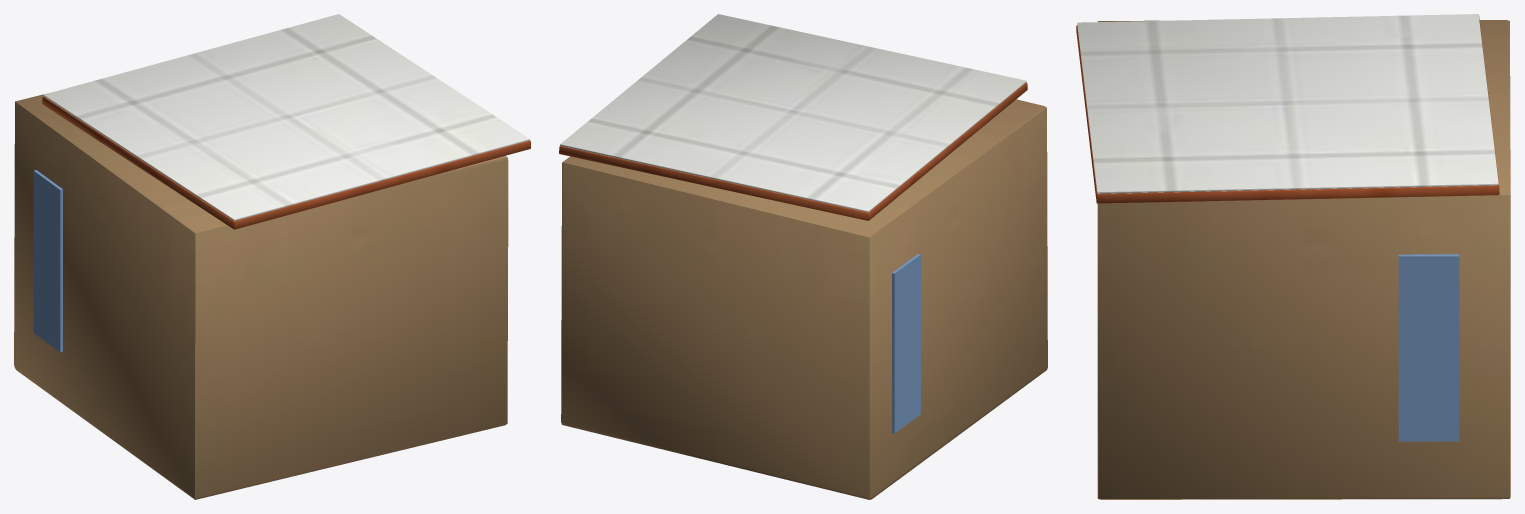
The model's file is REV-CER-001_lod1.glb.
The picture shows the model from 3 angles, left to right: view 1: azimuth 30°, elevation 25°; view 2: azimuth 150°, elevation 25°; view 3: azimuth 270°, elevation 25°; orthographic projection. The views are drawn at different scales.
Parts seen in each view (by area): view 1: REV-CER-001_caixa, REV-CER-001_face, REV-CER-001_faixa, REV-CER-001_corpo; view 2: REV-CER-001_caixa, REV-CER-001_face, REV-CER-001_faixa, REV-CER-001_corpo; view 3: REV-CER-001_caixa, REV-CER-001_face, REV-CER-001_faixa, REV-CER-001_corpo.
Part boxes in pixels (x1,y1,x2,y2): REV-CER-001_caixa: (14,93,508,499); REV-CER-001_face: (43,14,530,220); REV-CER-001_faixa: (33,170,62,352); REV-CER-001_corpo: (42,96,530,229); REV-CER-001_caixa: (561,99,1047,499); REV-CER-001_face: (560,14,1026,212); REV-CER-001_faixa: (892,254,920,433); REV-CER-001_corpo: (559,82,1027,220); REV-CER-001_caixa: (1097,20,1510,499); REV-CER-001_face: (1077,14,1498,193); REV-CER-001_faixa: (1398,254,1459,441); REV-CER-001_corpo: (1076,16,1499,203).
Bounding box in the file's own units: 0.2205 × 0.1756 × 0.2147.
Materials: 6 (4 with a texture image).
